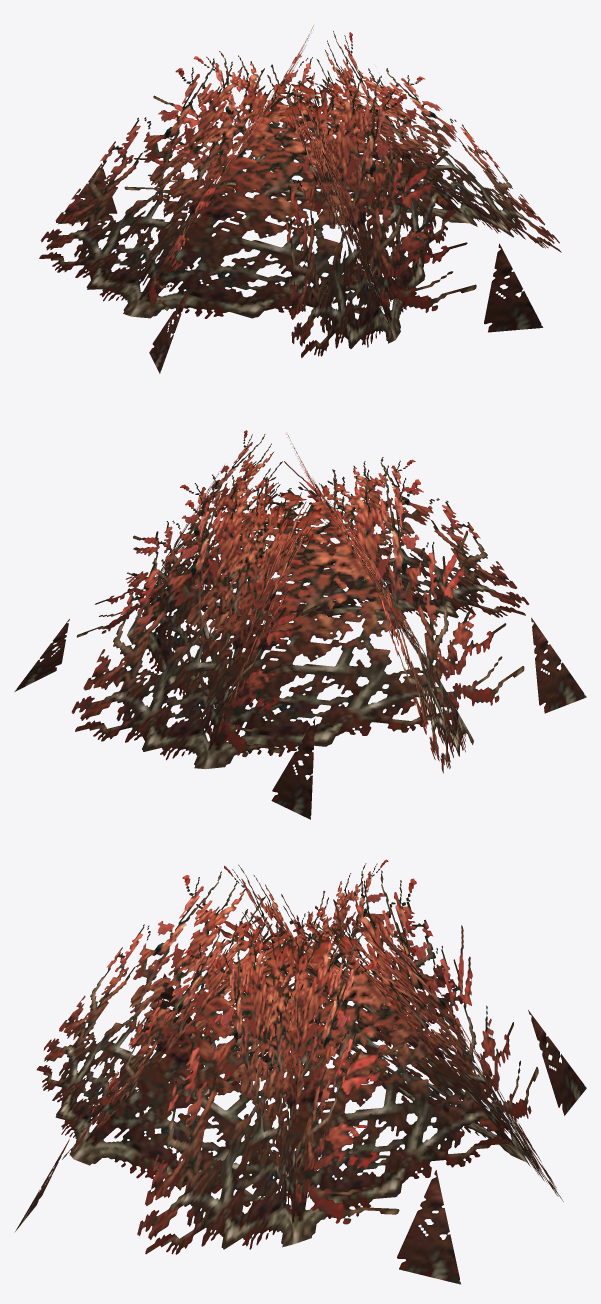
File: plaguelandwesternbush01.obj
3 renders of one model, top to bottom at view 1: azimuth 30°, elevation 25°; view 2: azimuth 150°, elevation 25°; view 3: azimuth 270°, elevation 25°, orthographic. The views are drawn at different scales.
Visible parts, largest first — view 1: PLAGUELANDWESTERNBUSH010; view 2: PLAGUELANDWESTERNBUSH010; view 3: PLAGUELANDWESTERNBUSH010.
Part boxes in pixels (x1,y1,x2,y2): PLAGUELANDWESTERNBUSH010: (39,25,561,373); PLAGUELANDWESTERNBUSH010: (14,430,586,819); PLAGUELANDWESTERNBUSH010: (14,859,586,1284).
Size of the model in its own units: 6.3 by 3.03 by 5.93.
1 material, 1 textured.
